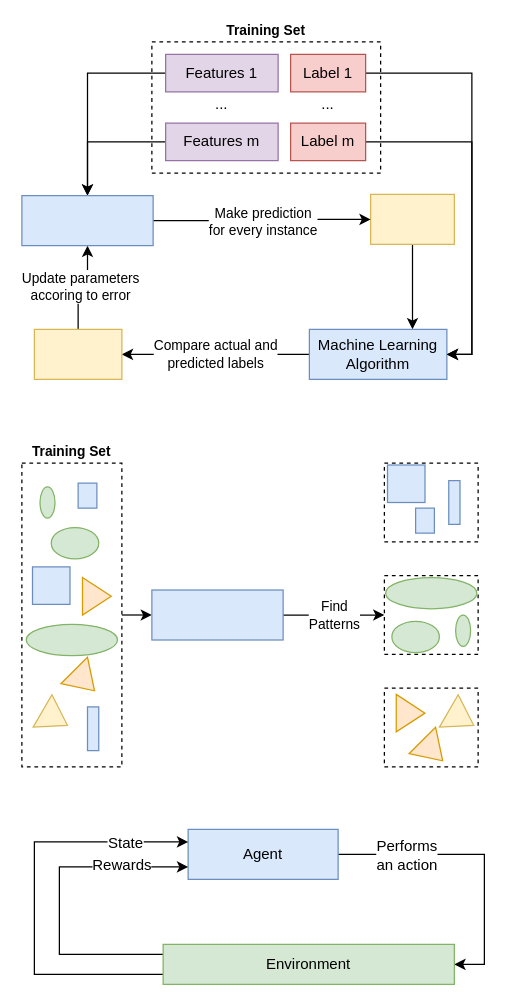
Some shapes in this 516 by 1006 pixel diagram are drawn without their labels. Here are the shapes that lost their labels. From the top down, the box of each, then its label:
(21, 194, 153, 246): Machine Learning Model
(369, 193, 454, 244): Prediction Result
(33, 328, 122, 379): Prediction Error
(151, 589, 283, 640): Machine Learning Algorithm/Model
